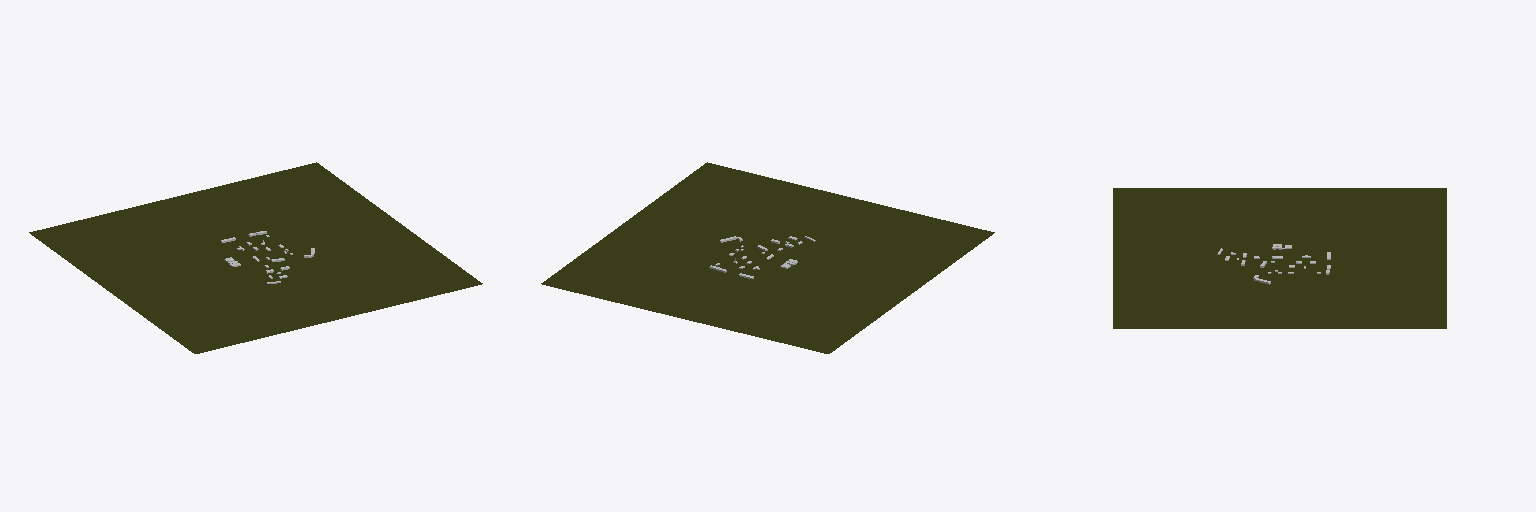
Rendered from camp23map_old.obj.
3 renders of one model, left to right at view 1: azimuth 30°, elevation 25°; view 2: azimuth 150°, elevation 25°; view 3: azimuth 270°, elevation 25°, orthographic.
Visible parts, largest first — view 1: Plane.027; view 2: Plane.027; view 3: Plane.027.
Part boxes in pixels (x1,y1,x2,y2): Plane.027: (29,162,482,353); Plane.027: (541,162,994,353); Plane.027: (1113,188,1446,328).
Size of the model in its own units: 1369 by 22.23 by 1369.